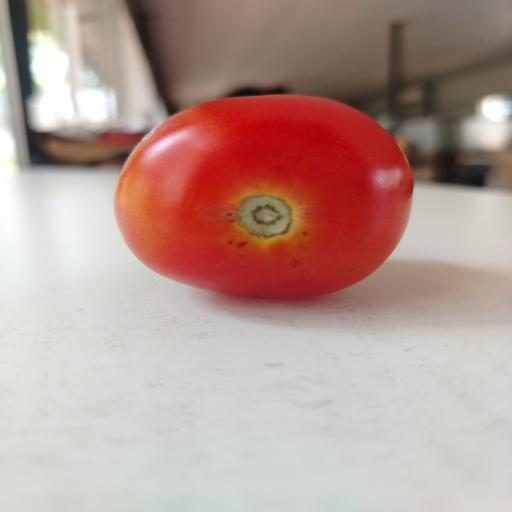ripe: (115, 95, 413, 297)
